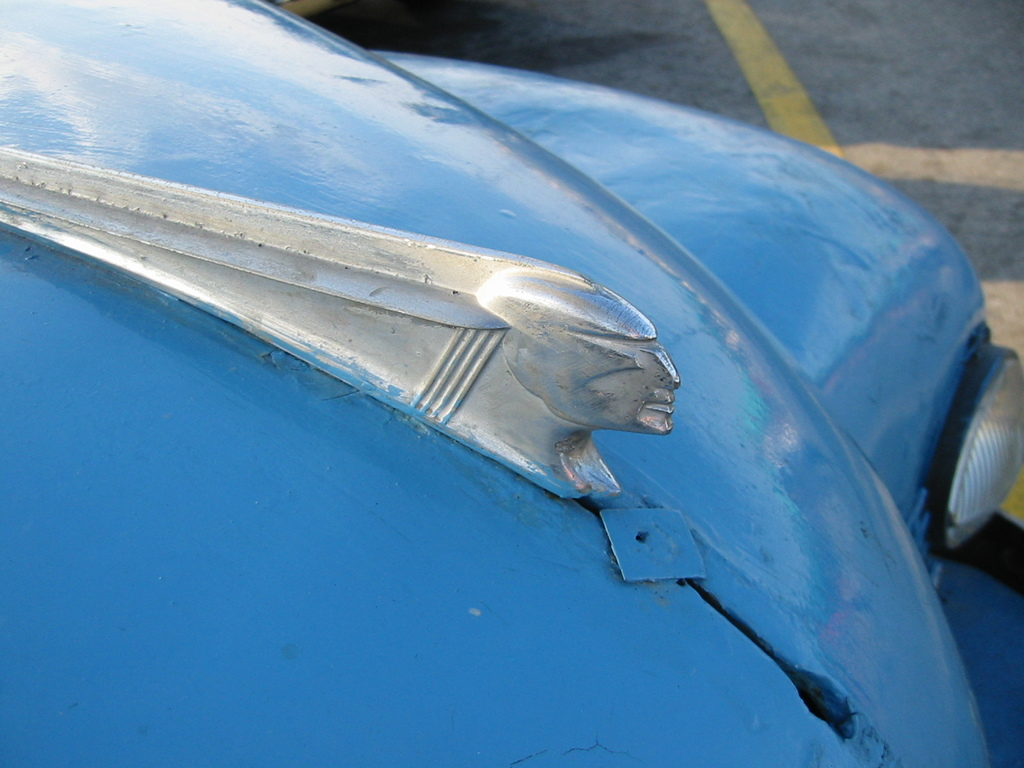Car: (98, 90, 983, 744)
